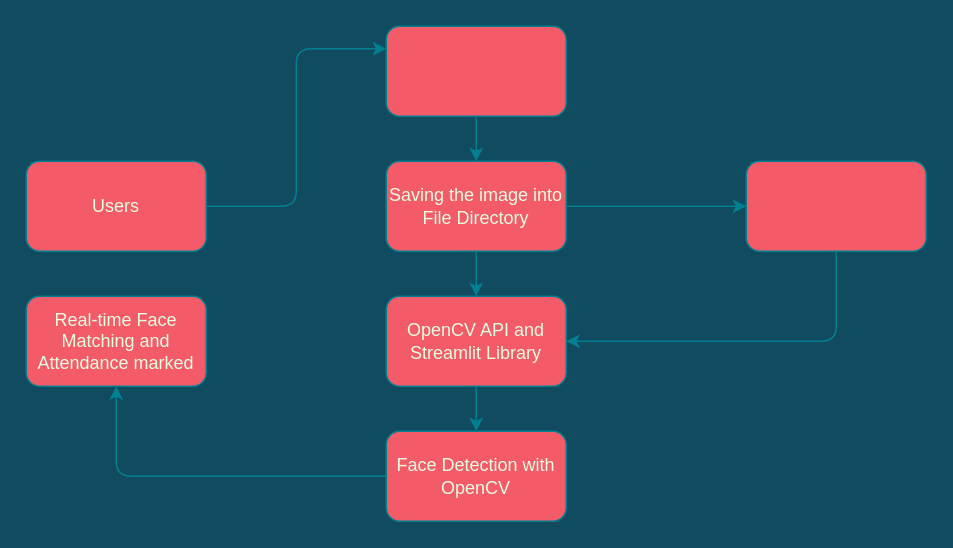
This 953x548 diagram has some shape labels left out. Here are the shapes that lost their labels. From the top down, the box of each, then its label:
(385, 25, 566, 116): Camera App
(745, 160, 926, 251): Parsing Database and necessary libraries
